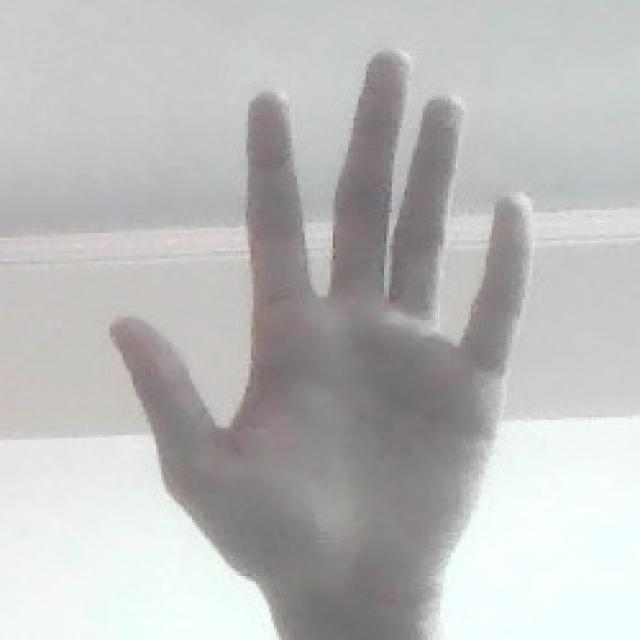Numeric-5: (113, 36, 535, 614), (567, 554, 567, 554)
